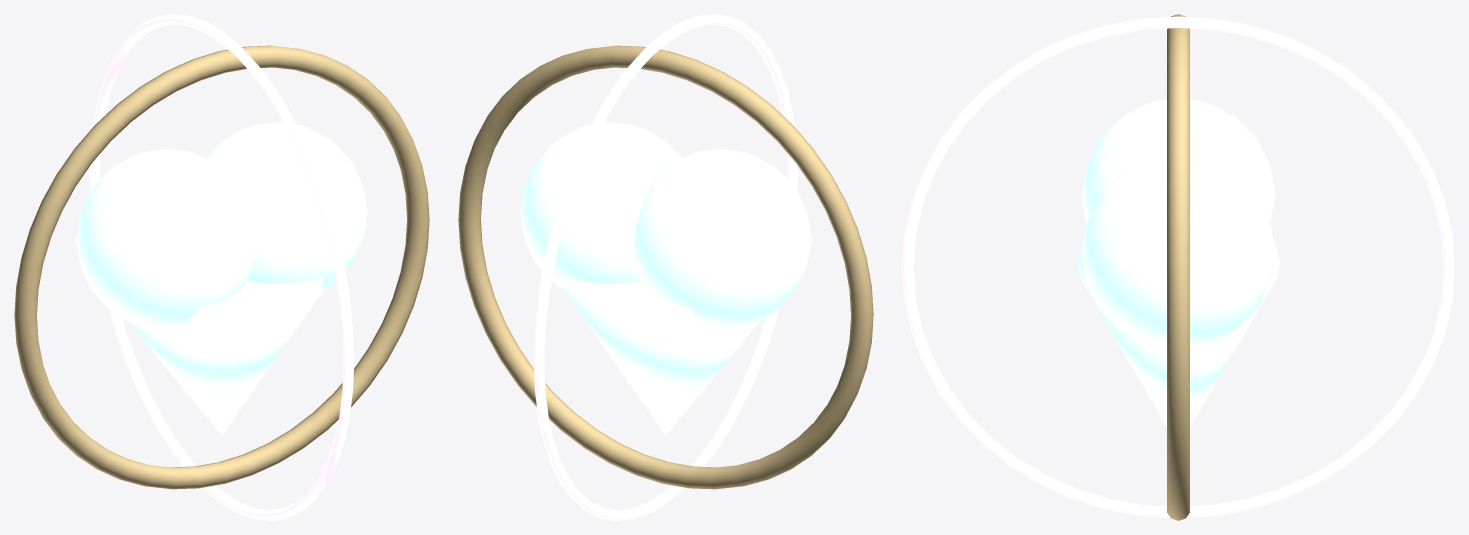
The model's file is relic_10.glb.
The picture shows the model from 3 angles, left to right: view 1: azimuth 30°, elevation 25°; view 2: azimuth 150°, elevation 25°; view 3: azimuth 270°, elevation 25°; orthographic projection. The views are drawn at different scales.
Parts seen in each view (by area): view 1: Sphere; view 2: Sphere; view 3: Sphere.
Part boxes in pixels (x1,y1,x2,y2): Sphere: [14, 14, 429, 520]; Sphere: [458, 14, 873, 520]; Sphere: [902, 14, 1454, 520].
Bounding box in the file's own units: 1.01 × 1.1 × 1.1.
